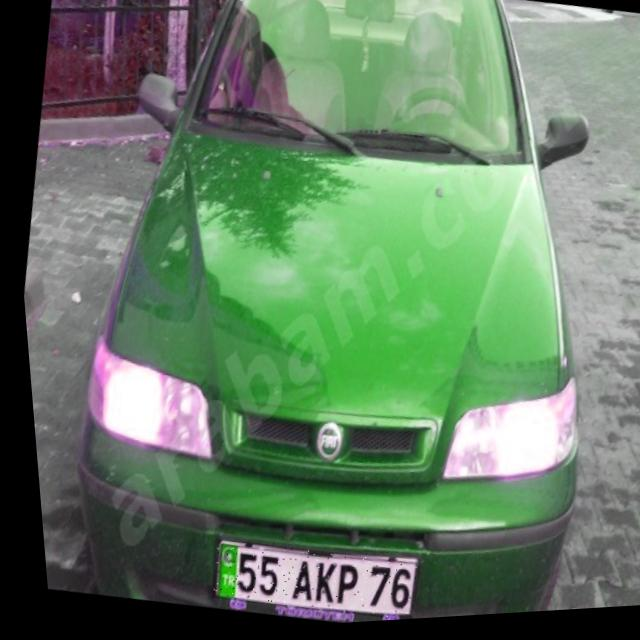license_plate: (198, 532, 410, 632)
